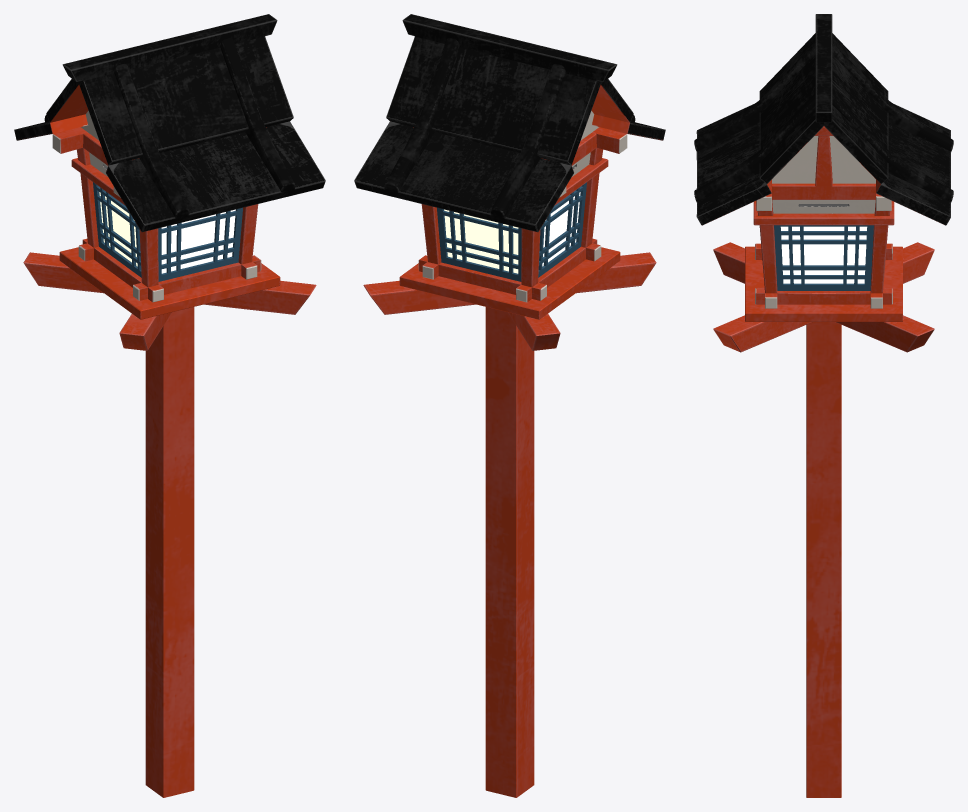
Rendered from Tourou.fbx.
3 renders of one model, left to right at view 1: azimuth 30°, elevation 25°; view 2: azimuth 150°, elevation 25°; view 3: azimuth 270°, elevation 25°, orthographic. The views are drawn at different scales.
Visible parts, largest first — view 1: Tourou; view 2: Tourou; view 3: Tourou.
Part boxes in pixels (x1,y1,x2,y2): Tourou: [14, 14, 325, 797]; Tourou: [354, 14, 665, 797]; Tourou: [694, 14, 953, 797].
Bounding box in the file's own units: 43.61 × 150 × 48.54.
